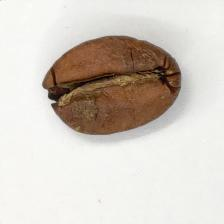NG: (69, 97, 100, 123)
